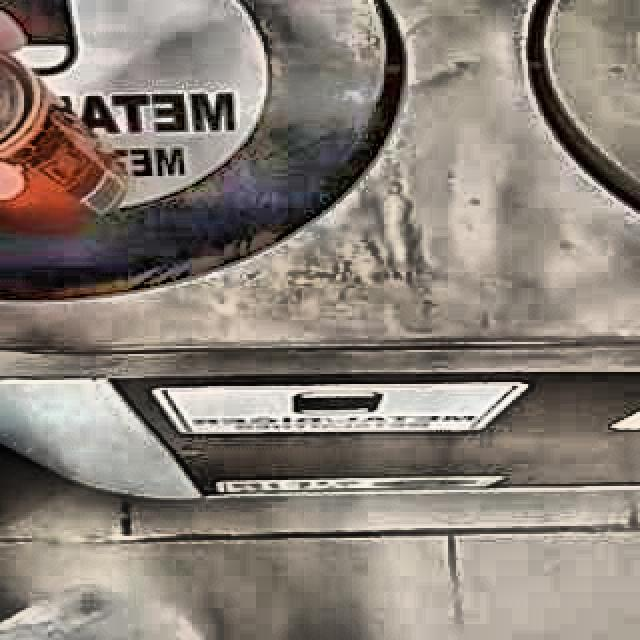metal: (0, 52, 128, 230)
